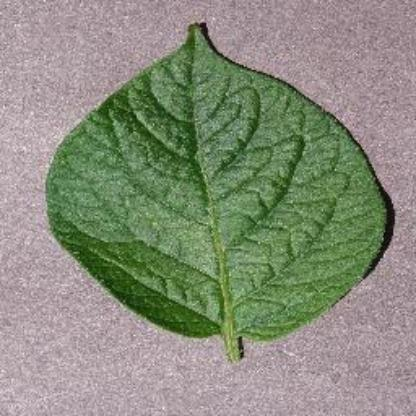Healthy-plant: (40, 21, 402, 369)
